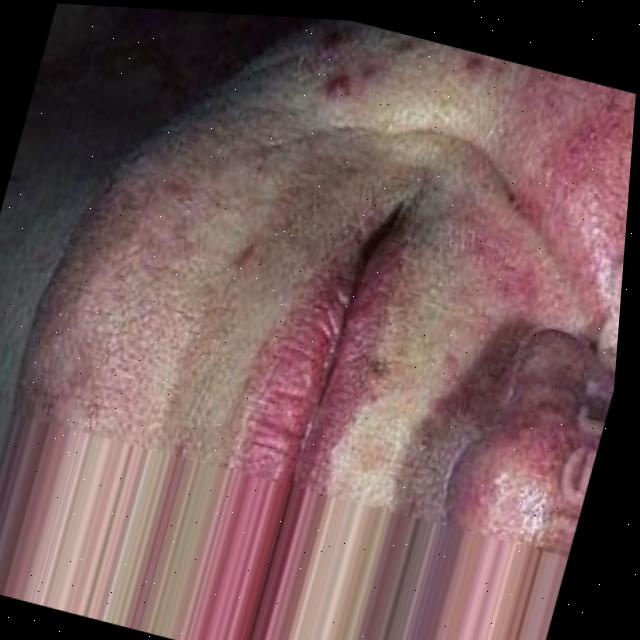Rosacea: (456, 59, 638, 284), (449, 404, 576, 562), (326, 57, 360, 101)
